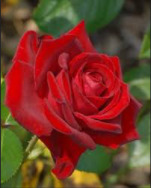RedRose: (7, 27, 151, 156)
